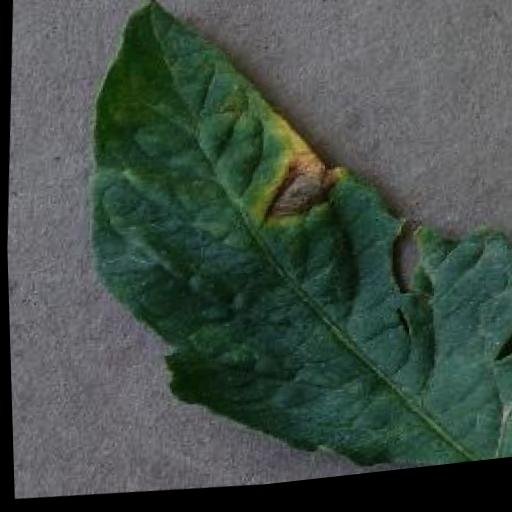Early Blight: (72, 0, 512, 506)
